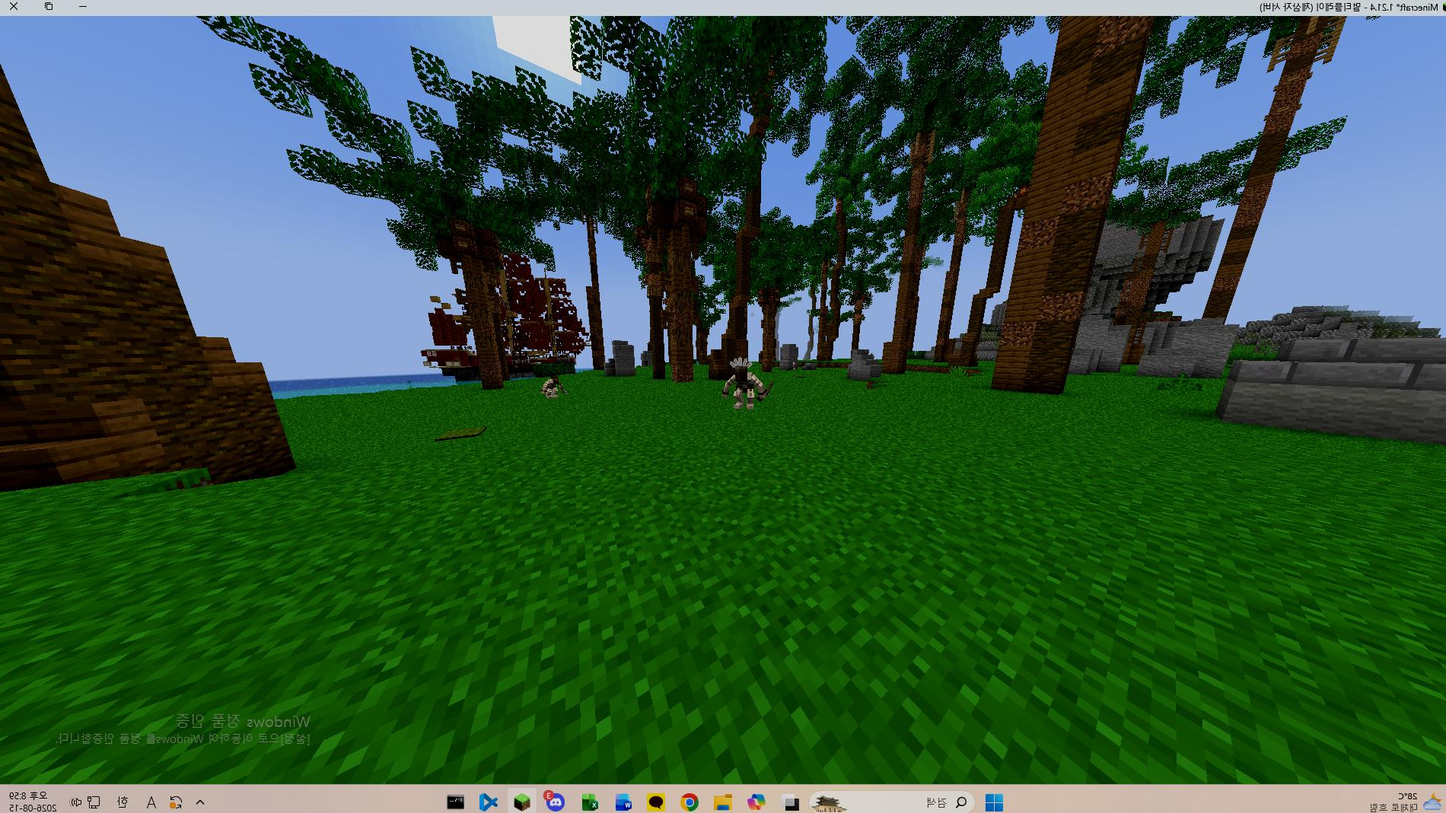bow_indian: (705, 351, 770, 424)
